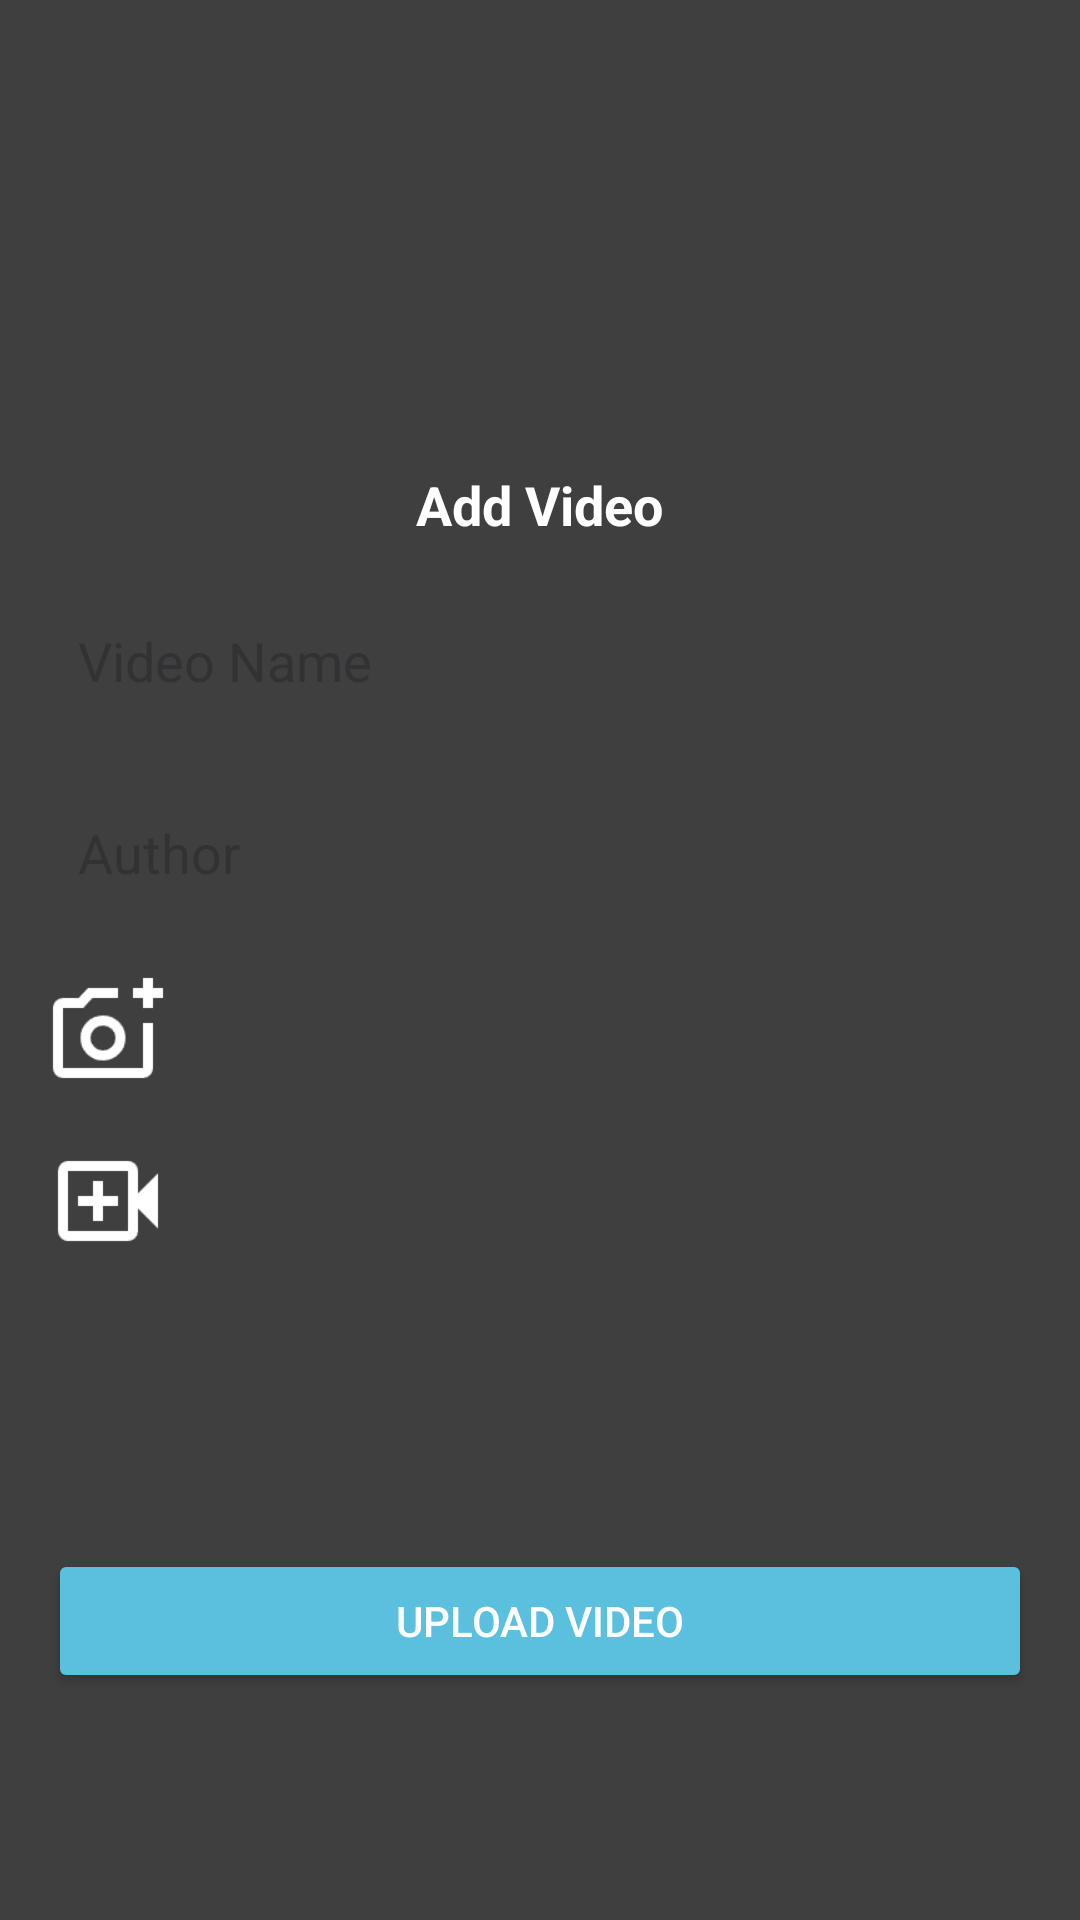

Icon click points for this 1080 × 1920 phone screenshot, format (x=x, y=y):
add photo: (x=108, y=1028)
addvideo: (x=108, y=1201)
